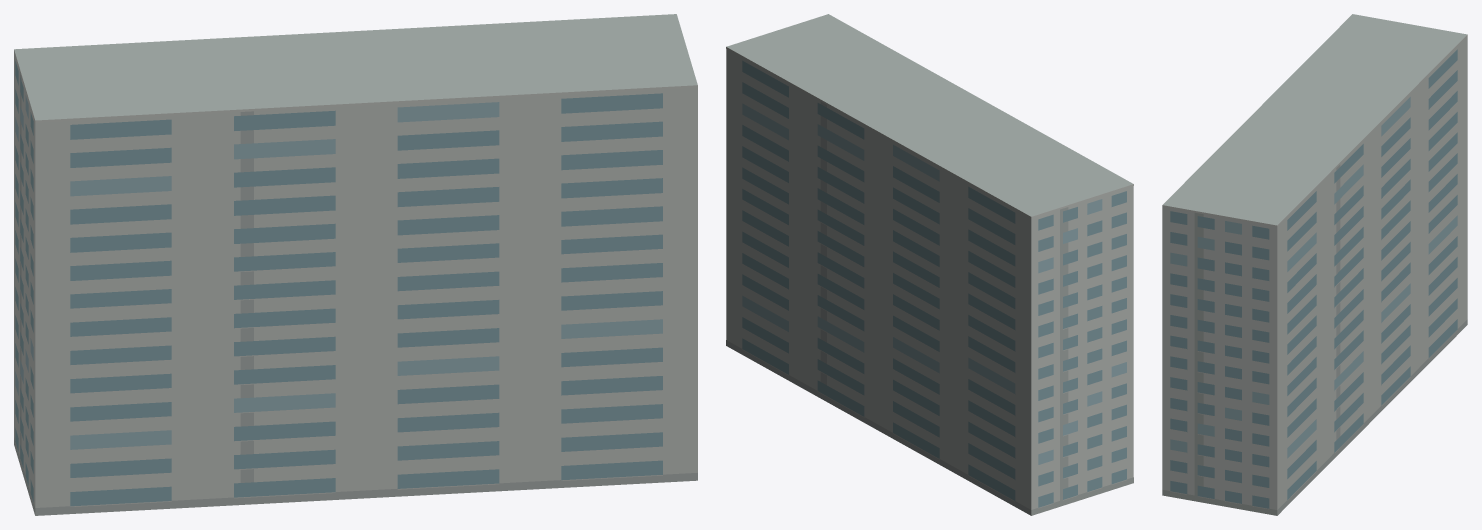
The model's file is residential-43997b29-518f-46c7-8258-e22d14a5de9e.glb.
3 renders of one model, left to right at view 1: azimuth 30°, elevation 25°; view 2: azimuth 150°, elevation 25°; view 3: azimuth 270°, elevation 25°, orthographic. The views are drawn at different scales.
Parts seen in each view (by area): view 1: residential-43997b29-518f-46c7-8258-e22d14a5de9e.tmp; view 2: residential-43997b29-518f-46c7-8258-e22d14a5de9e.tmp; view 3: residential-43997b29-518f-46c7-8258-e22d14a5de9e.tmp.
Part boxes in pixels (x1,y1,x2,y2): residential-43997b29-518f-46c7-8258-e22d14a5de9e.tmp: (14, 14, 697, 515); residential-43997b29-518f-46c7-8258-e22d14a5de9e.tmp: (726, 14, 1133, 515); residential-43997b29-518f-46c7-8258-e22d14a5de9e.tmp: (1162, 14, 1467, 515).
Size of the model in its own units: 60.93 by 39 by 37.17.
